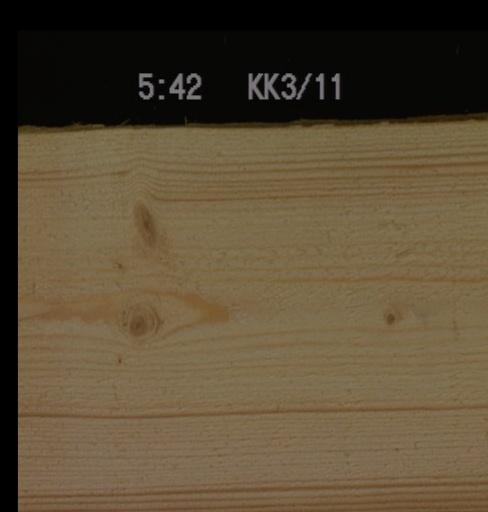small_knot: (382, 309, 396, 326)
sound_knot: (122, 303, 151, 341)
wave: (17, 121, 161, 130)
